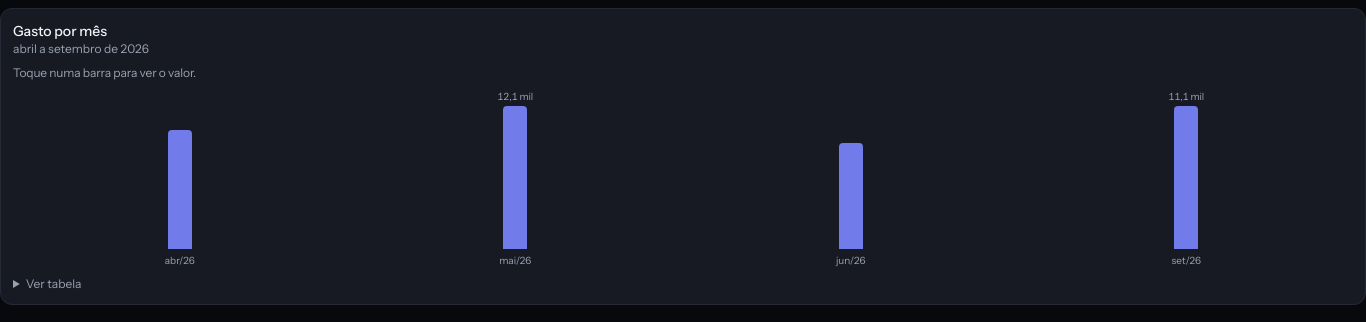
Test: ChatChart › rótulo só no maior e no último; o valor aparece ao tocar
Expected: the text "12,1 mil" is shown, [497,89,533,104]
Expected: the text "11,1 mil" is shown, [1168,89,1204,104]
What coordinates should you click on to do the following:
click the list item named "jun/26"
I would click on:
 (851, 169)
Its box is [684,89,1018,249].
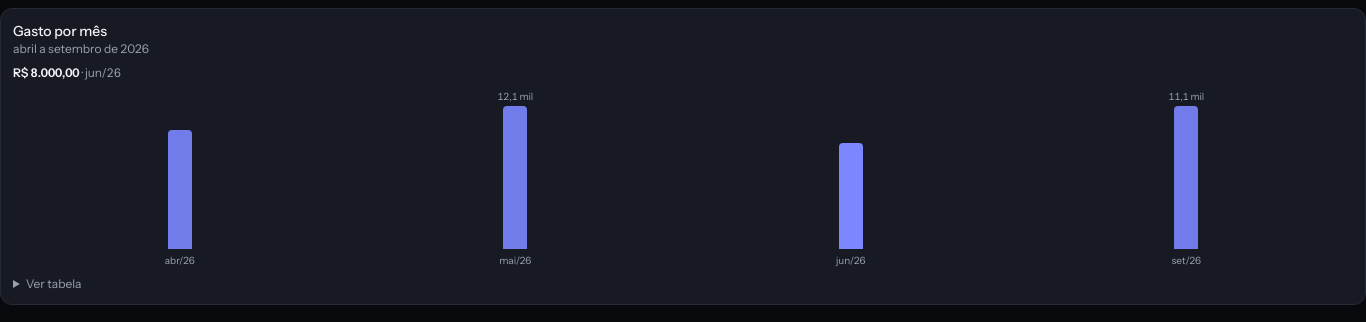
Now the text "Toque numa barra para ver o valor." reads "R$ 8.000,00 · jun/26", box [13,65,121,80]
